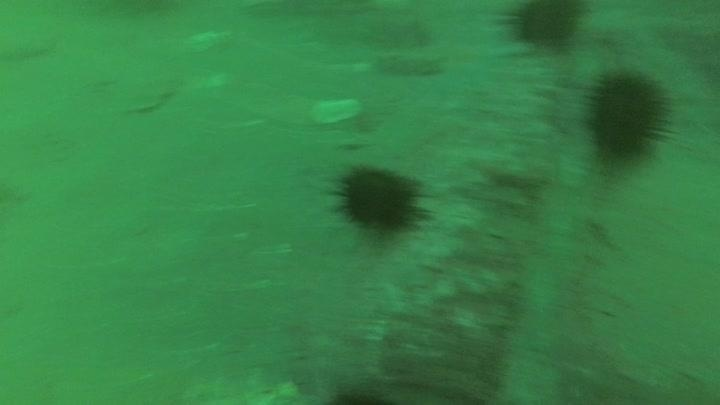echinus: (581, 65, 675, 169), (330, 162, 428, 237), (503, 1, 588, 52)
holothurian: (371, 44, 448, 80)
